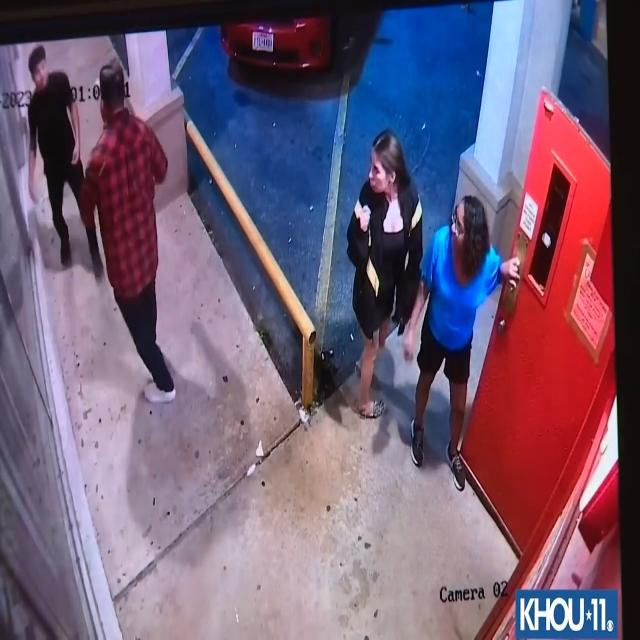Person: (82, 59, 185, 399), (409, 192, 505, 492), (343, 122, 422, 424), (21, 39, 98, 262)
